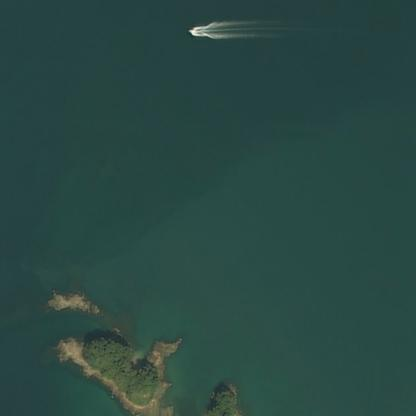ship: (20, 29, 28, 32)
